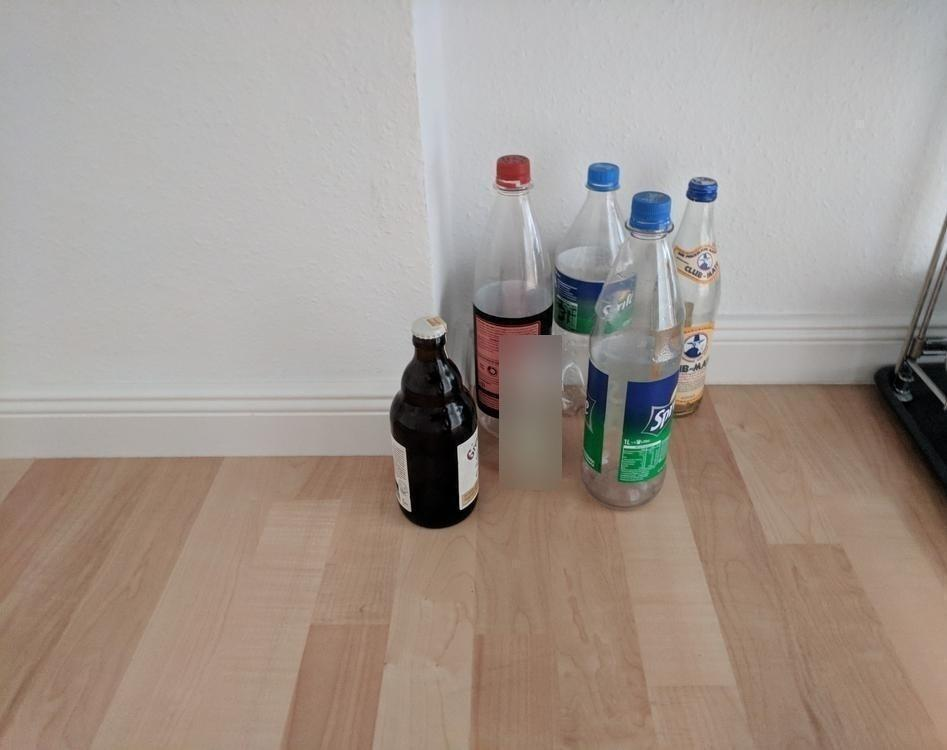bottle-glass: (388, 315, 480, 529), (646, 174, 725, 421)
bottle-plastic: (576, 187, 683, 510), (467, 149, 558, 449), (545, 157, 635, 422)
